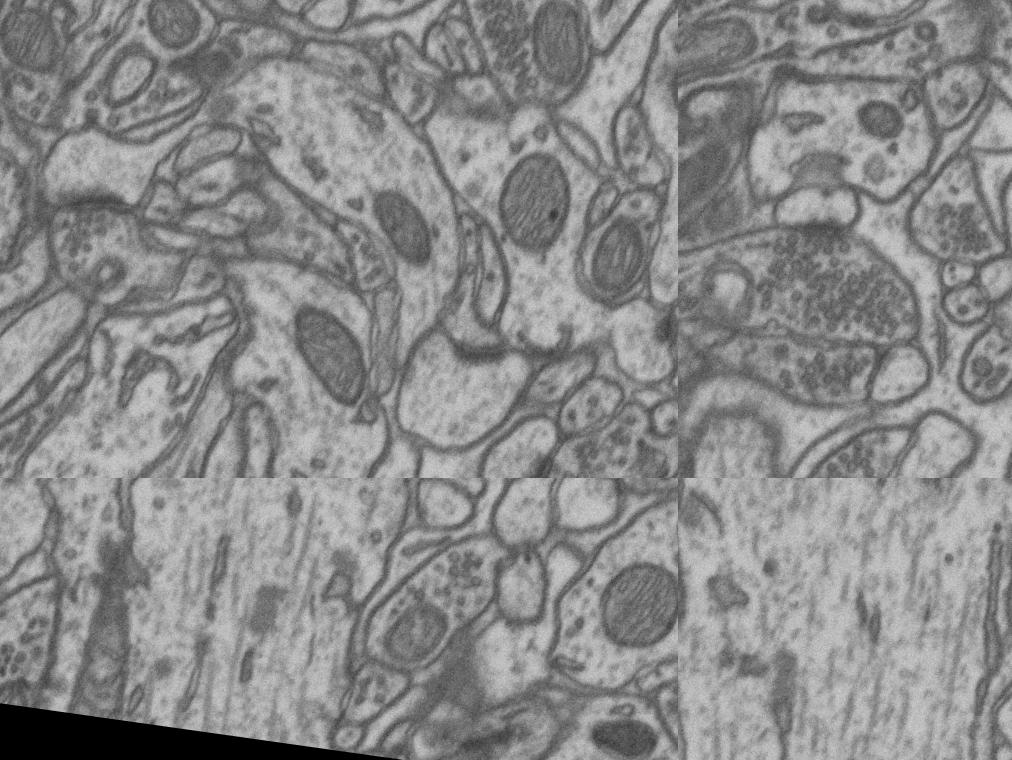mitochondria: (678, 85, 761, 269), (275, 294, 386, 414), (575, 546, 678, 672), (487, 140, 586, 264), (678, 0, 756, 139), (678, 478, 730, 661), (517, 0, 605, 100), (360, 179, 449, 277), (362, 599, 452, 694), (581, 203, 656, 305), (0, 0, 75, 83), (898, 182, 970, 260), (135, 0, 215, 58), (836, 88, 904, 147), (0, 653, 56, 710), (936, 0, 1008, 35), (650, 682, 678, 748)
